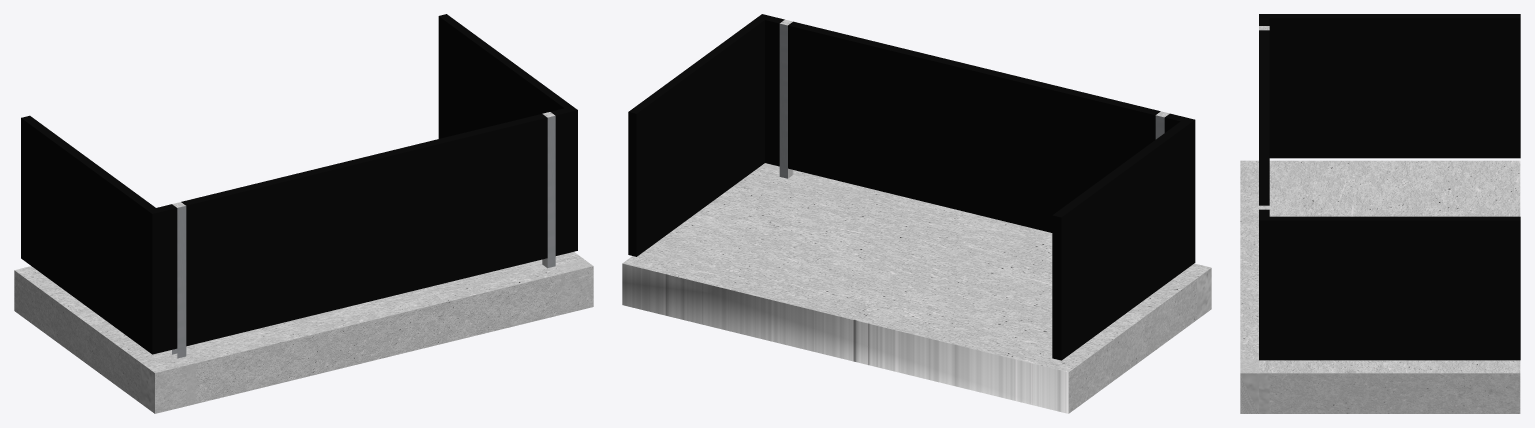
The model's file is Modular_Balcony_textured.FBX.
3 views of the same model, side by side, from view 1: azimuth 30°, elevation 25°; view 2: azimuth 150°, elevation 25°; view 3: azimuth 270°, elevation 25° (orthographic). The views are drawn at different scales.
Parts seen in each view (by area): view 1: Modular_Balcony_MiddlePiece; view 2: Modular_Balcony_MiddlePiece; view 3: Modular_Balcony_MiddlePiece.
Boxes of the visible parts, box(x1,y1,x2,y2) form: Modular_Balcony_MiddlePiece: box(14, 14, 593, 413); Modular_Balcony_MiddlePiece: box(622, 14, 1211, 413); Modular_Balcony_MiddlePiece: box(1240, 14, 1520, 413).
Bounding box in the file's own units: 22.86 × 9.53 × 12.71.
